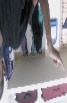hand: (47, 45, 65, 74)
